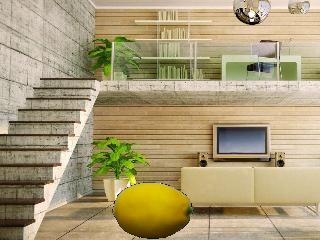lemon: (109, 180, 196, 240)
